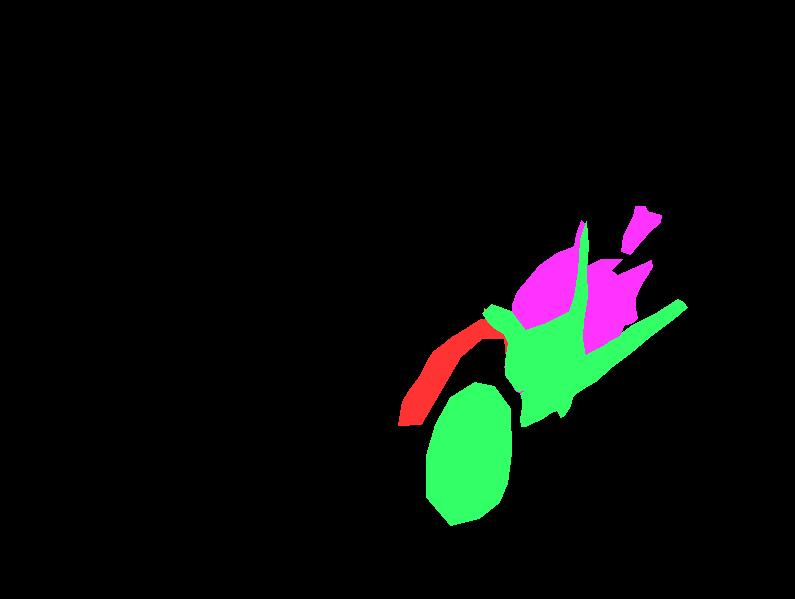Broken part: (520, 299, 687, 426), (482, 221, 588, 391), (426, 382, 511, 525)
Dent: (504, 220, 587, 393), (575, 259, 652, 358), (621, 206, 661, 254)
Missing part: (398, 318, 514, 425)
Paint chip: (525, 328, 562, 350), (484, 308, 504, 321), (557, 322, 572, 330)
Scratch: (583, 264, 652, 303), (582, 281, 638, 313), (582, 309, 618, 342), (583, 259, 616, 292), (510, 290, 540, 318), (529, 359, 564, 383), (590, 293, 627, 314), (516, 355, 542, 384), (533, 302, 554, 321), (585, 316, 608, 329), (574, 260, 587, 282), (530, 393, 553, 405), (539, 311, 559, 324), (512, 311, 525, 325), (535, 327, 549, 340), (512, 348, 525, 359), (543, 272, 551, 289), (512, 324, 521, 336), (555, 299, 563, 312), (438, 368, 445, 374), (575, 322, 581, 326), (605, 330, 610, 334)
